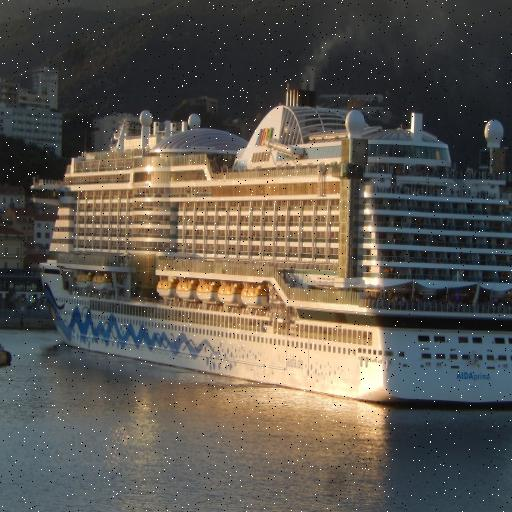cruises: (32, 68, 512, 416)
